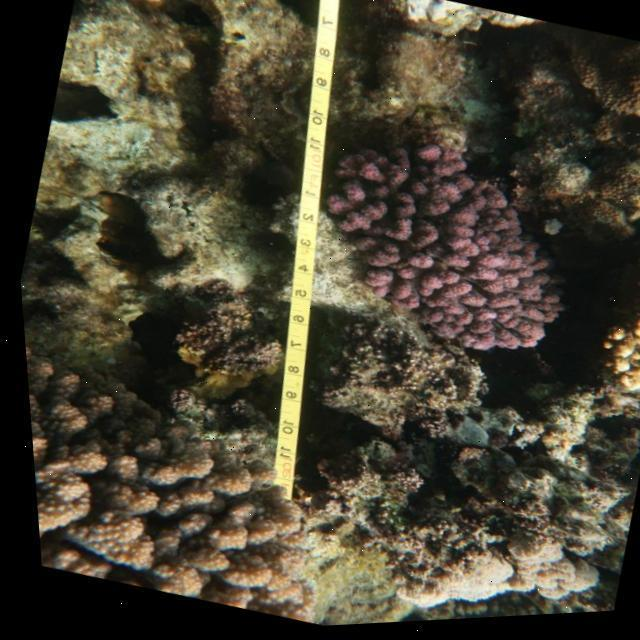Healthy Coral: (286, 114, 607, 390), (20, 342, 303, 628)
